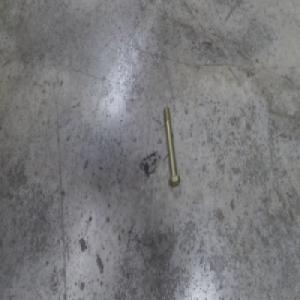Bolt: (163, 106, 180, 185)
